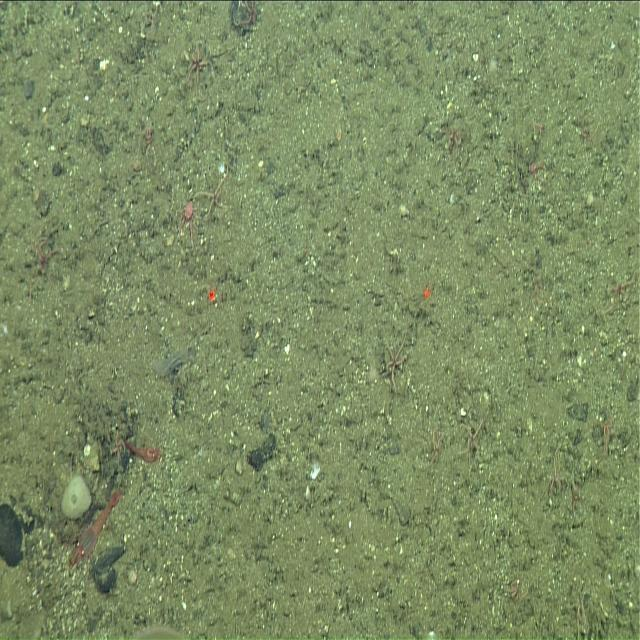Brittle Star: (379, 324, 412, 394), (454, 410, 488, 468)
Not Brittle Star: (120, 433, 166, 471), (60, 471, 93, 522)
